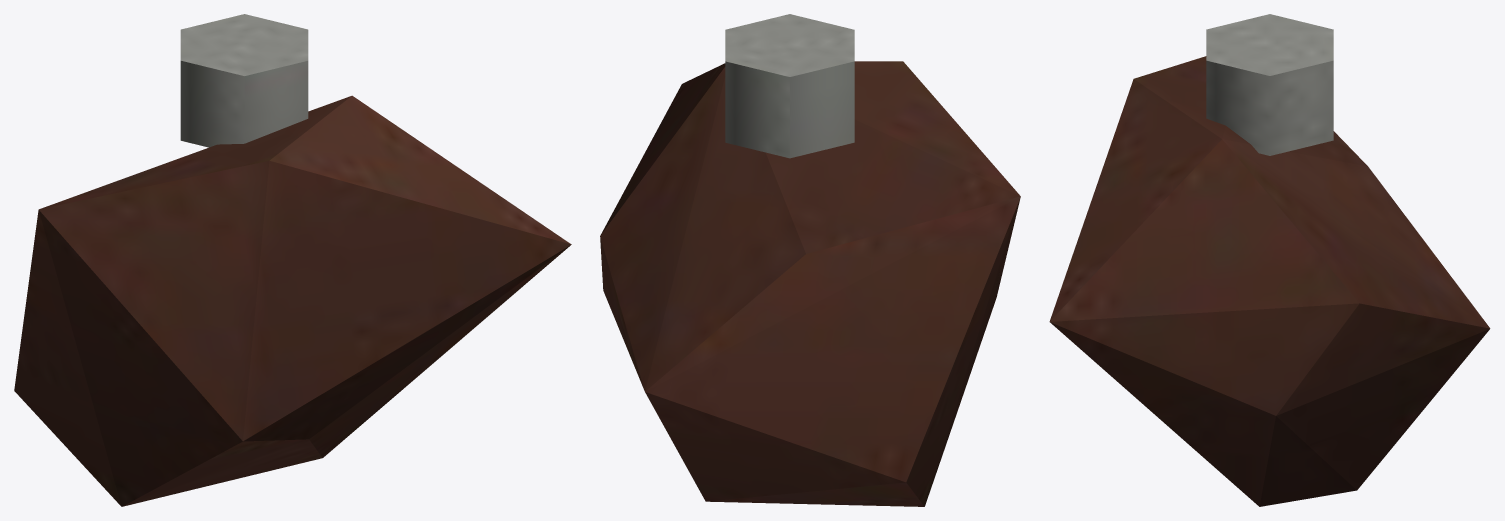
Rendered from cluster-grenade.glb.
3 renders of one model, left to right at view 1: azimuth 30°, elevation 25°; view 2: azimuth 150°, elevation 25°; view 3: azimuth 270°, elevation 25°, orthographic.
Parts seen in each view (by area): view 1: cluster-grenade; view 2: cluster-grenade; view 3: cluster-grenade.
Part boxes in pixels (x1,y1,x2,y2): cluster-grenade: (14, 14, 571, 506); cluster-grenade: (600, 14, 1020, 506); cluster-grenade: (1049, 14, 1490, 506).
Bounding box in the file's own units: 0.17 × 0.16 × 0.15.
1 material, 1 textured.
